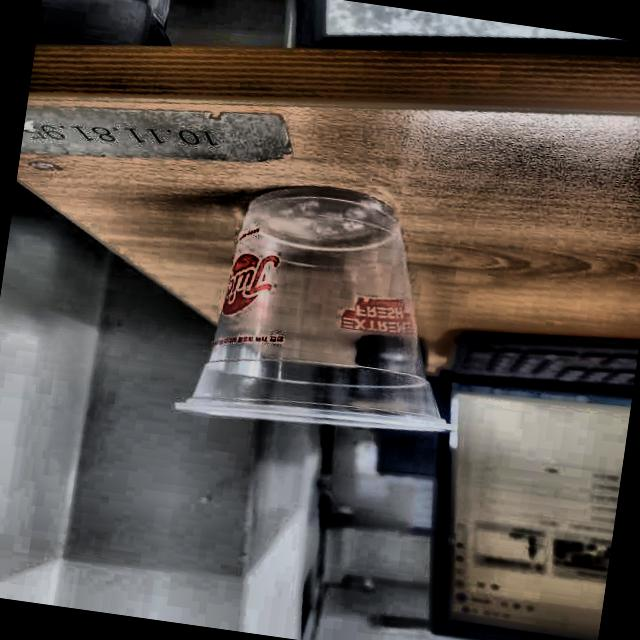plastic cup: (172, 171, 489, 454)
